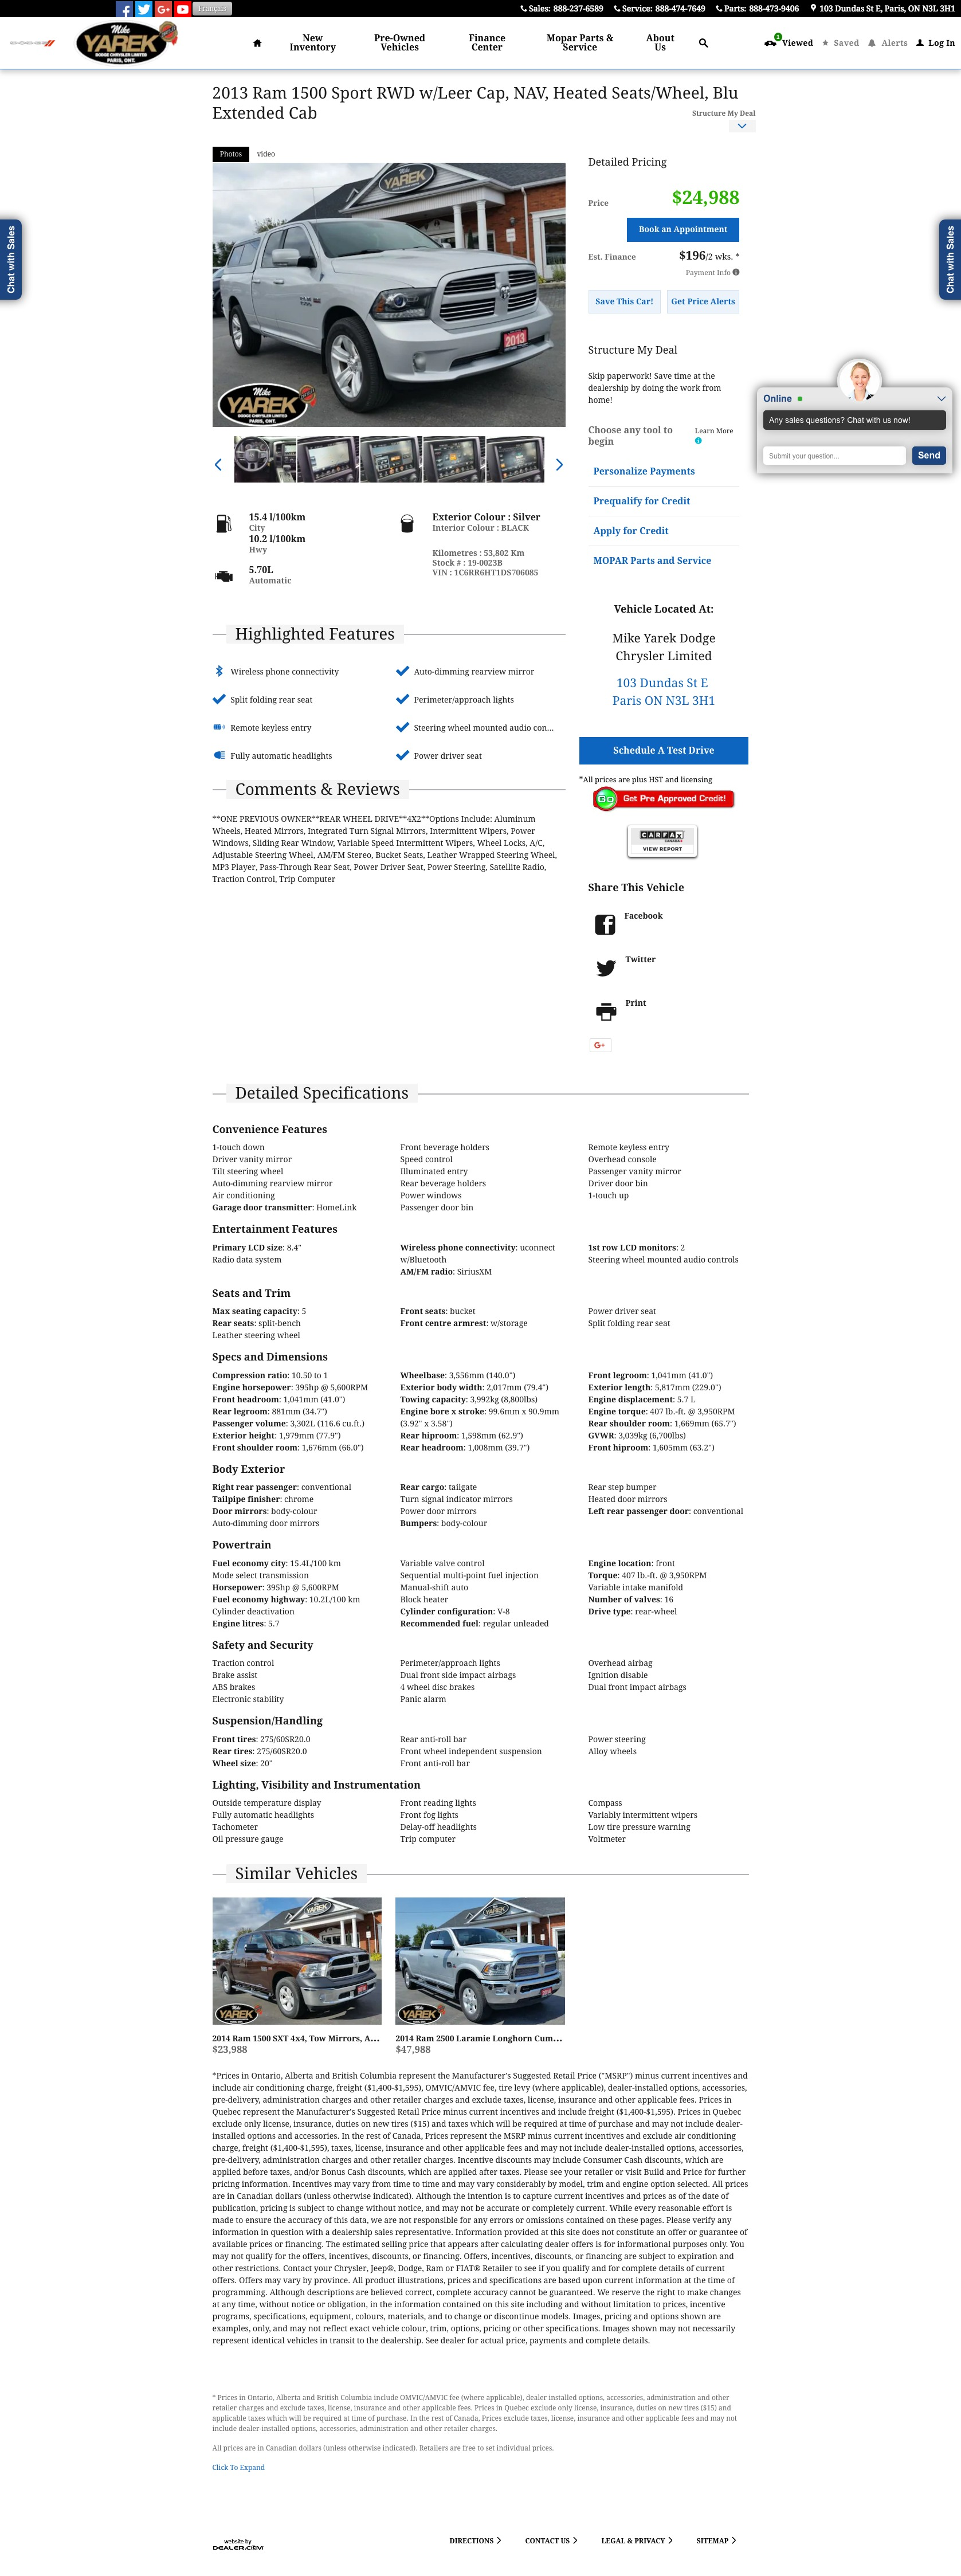car: (555, 458, 563, 471)
